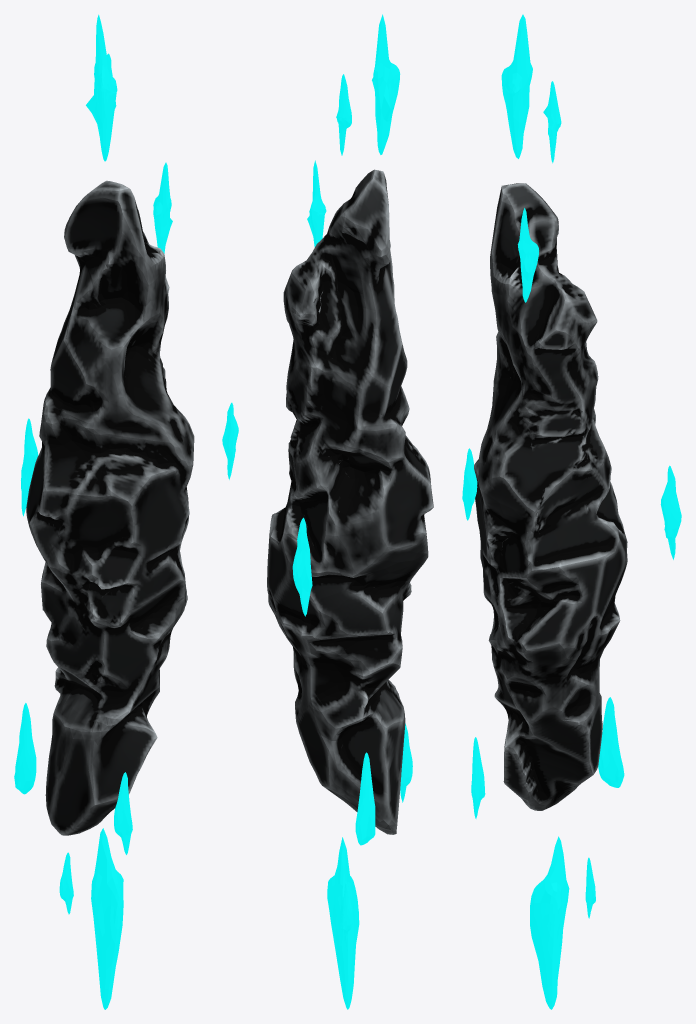
File: Cylinder_Stone1.fbx
The picture shows the model from 3 angles, left to right: view 1: azimuth 30°, elevation 25°; view 2: azimuth 150°, elevation 25°; view 3: azimuth 270°, elevation 25°; orthographic projection. The views are drawn at different scales.
Parts seen in each view (by area): view 1: Rock_Low, rock.001, rock.006, rock.002, rock.007, rock.003, rock.008, rock.009, rock.004; view 2: Rock_Low, rock.001, rock.006, rock.002, rock.008, rock.007, rock.005, rock.003, rock.004; view 3: Rock_Low, rock.001, rock.006, rock.002, rock.007, rock.008, rock.003, rock.005, rock.009.
Boxes of the visible parts, x1,y1,x2,y2 form: Rock_Low: [26, 180, 194, 835]; rock.001: [91, 828, 123, 1009]; rock.006: [86, 14, 117, 161]; rock.002: [14, 703, 36, 794]; rock.007: [153, 162, 172, 253]; rock.003: [114, 772, 132, 854]; rock.008: [21, 418, 38, 516]; rock.009: [222, 402, 238, 479]; rock.004: [59, 852, 73, 914]; Rock_Low: [267, 169, 433, 834]; rock.001: [327, 837, 359, 1009]; rock.006: [372, 14, 400, 154]; rock.002: [355, 752, 375, 845]; rock.008: [292, 517, 312, 616]; rock.007: [307, 160, 326, 247]; rock.005: [336, 74, 351, 155]; rock.003: [400, 723, 412, 802]; rock.004: [340, 883, 352, 943]; Rock_Low: [474, 183, 627, 810]; rock.001: [530, 836, 569, 1009]; rock.006: [501, 14, 532, 158]; rock.002: [598, 697, 624, 787]; rock.007: [517, 208, 538, 302]; rock.008: [660, 465, 681, 559]; rock.003: [471, 737, 485, 818]; rock.005: [543, 81, 561, 163]; rock.009: [462, 448, 477, 520].
Bounding box in the file's own units: 342 × 1969 × 397.
